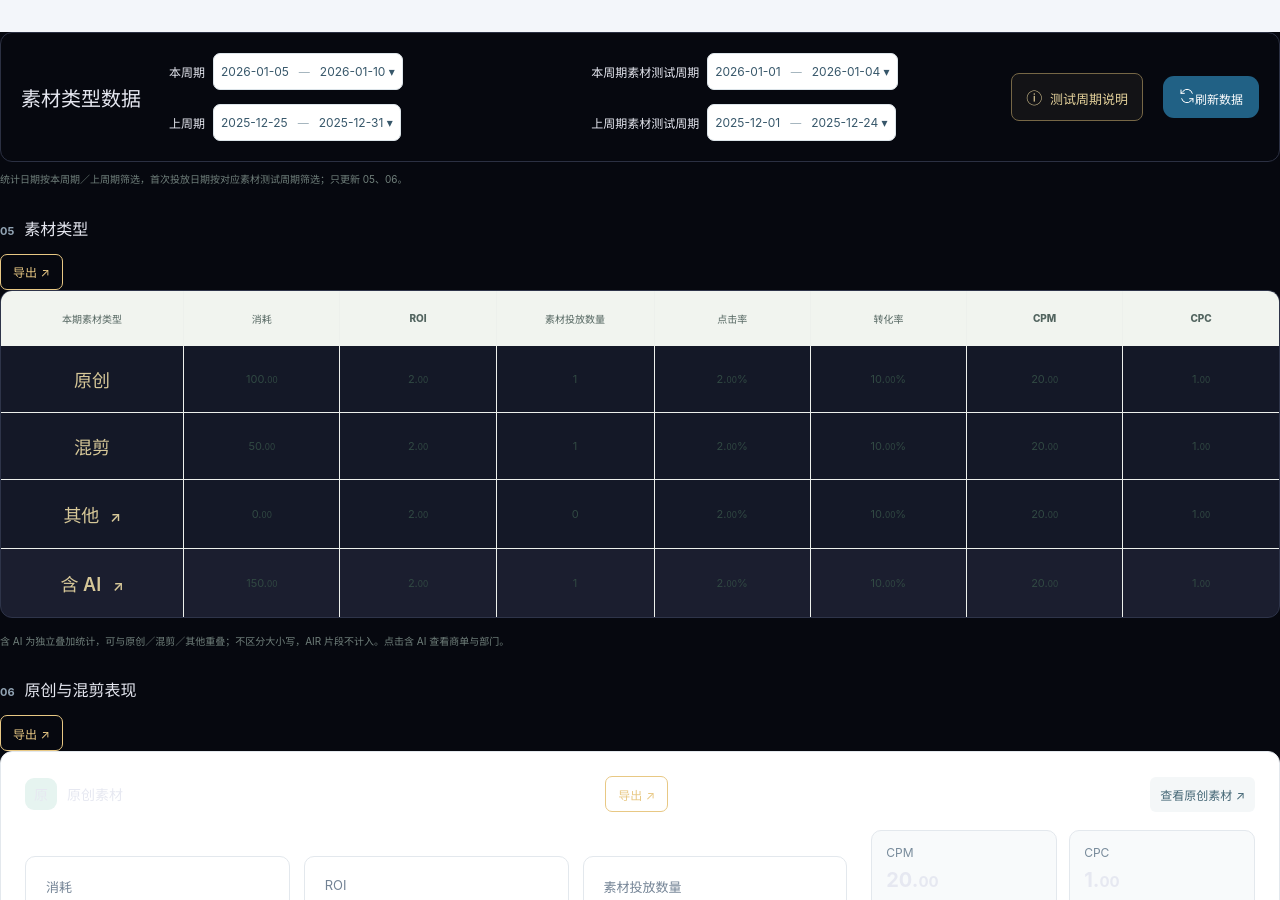
Test: local business review enhancements › keeps old AI totals readable without pretending missing detail is an empty list
The width and height of the screenshot is (1280, 900).
What coordinates should you click on to do the following:
click the button with class "ai-summary-button"
I would click on:
 (92, 582)
Its box is [54, 568, 130, 596].
(page scrolled)
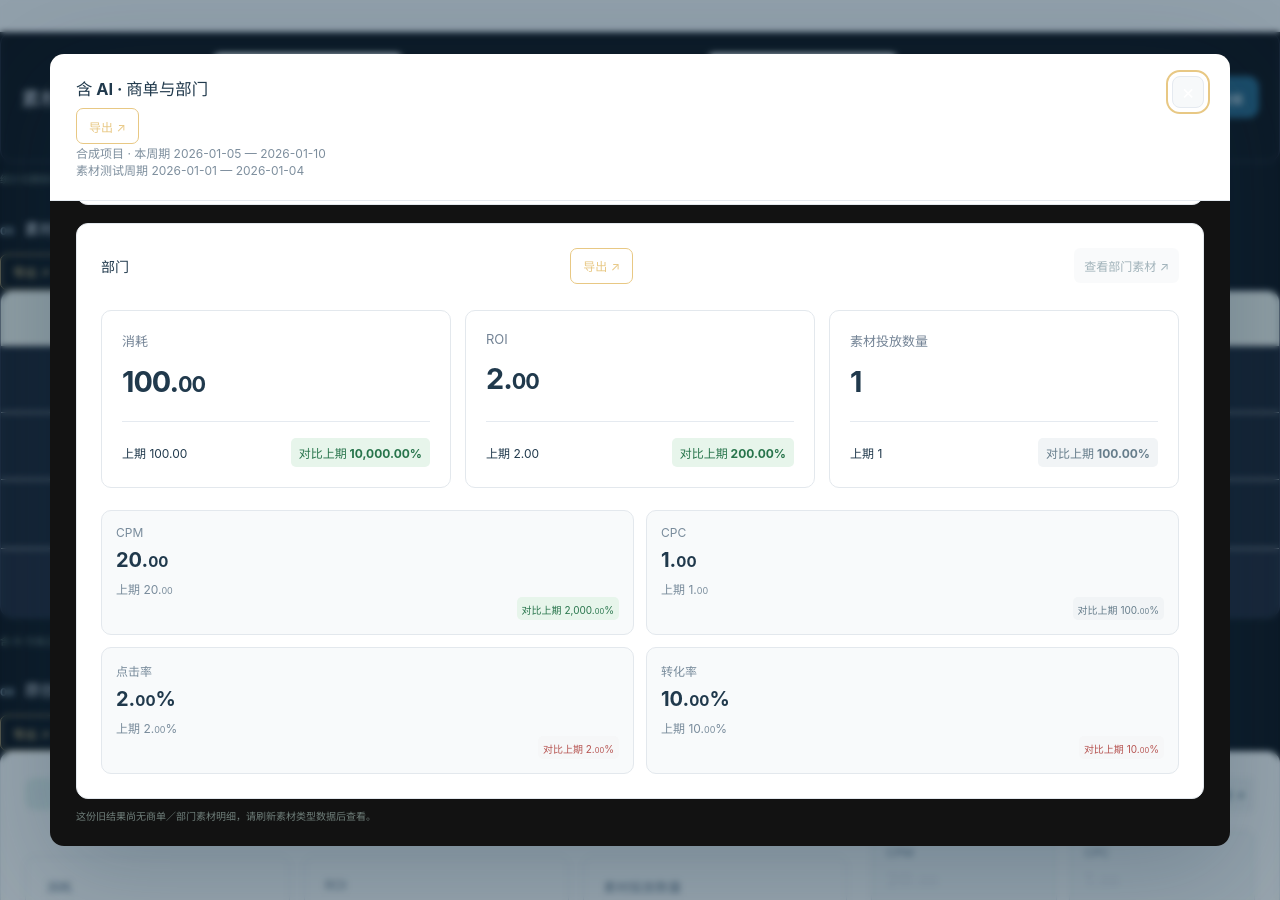
Check: the message "这份旧结果尚无商单／部门素材明细，请刷新素材类型数据后查看。" is shown, box [76, 810, 376, 822]
